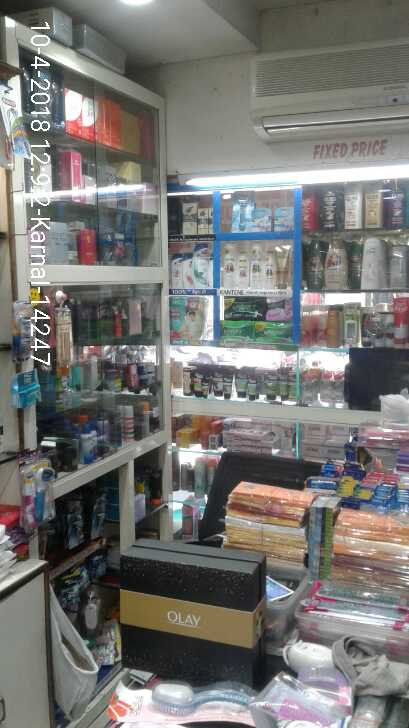venus: (233, 192, 252, 232), (275, 207, 294, 231), (253, 207, 271, 232)
